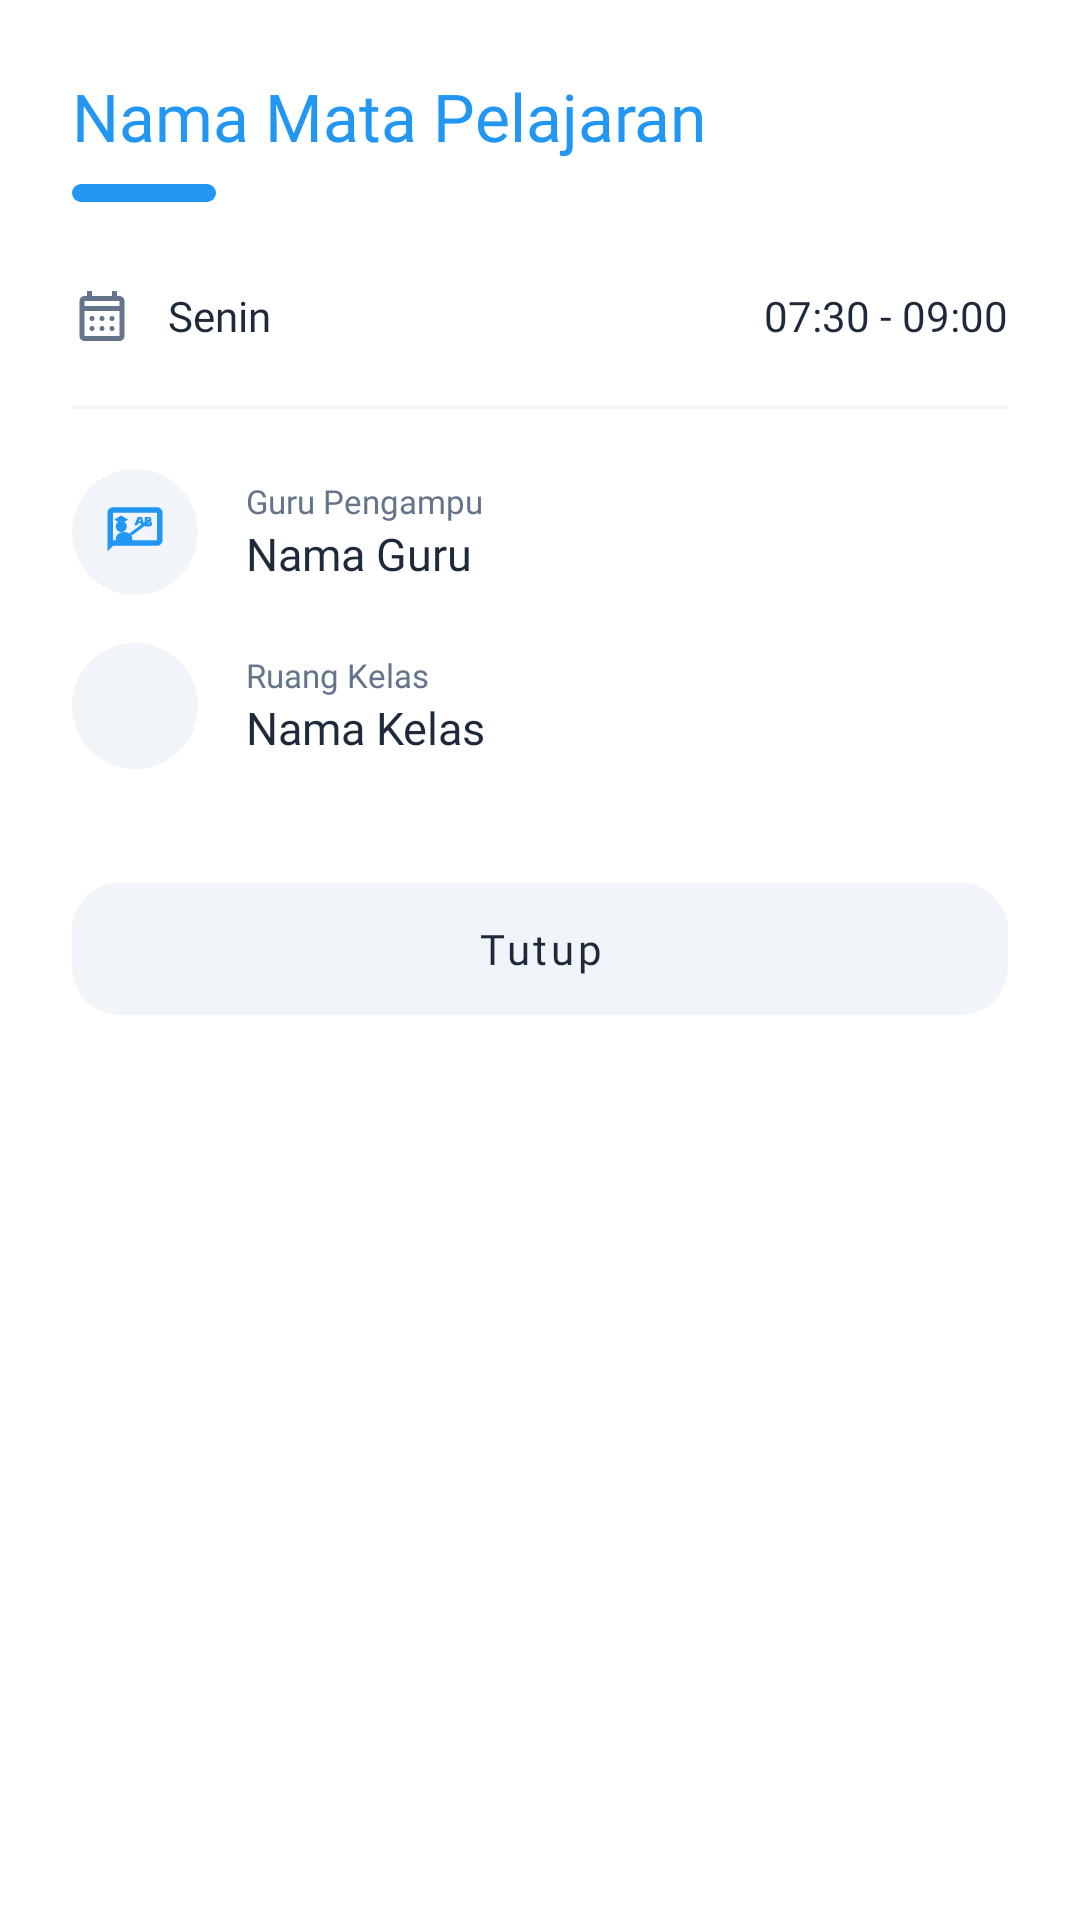

Screen size 1080*1920. Icon name, then its box in pixels as (x1, y1, x2, y2):
schedule: (79, 291, 125, 341)
teacher: (107, 507, 163, 552)
